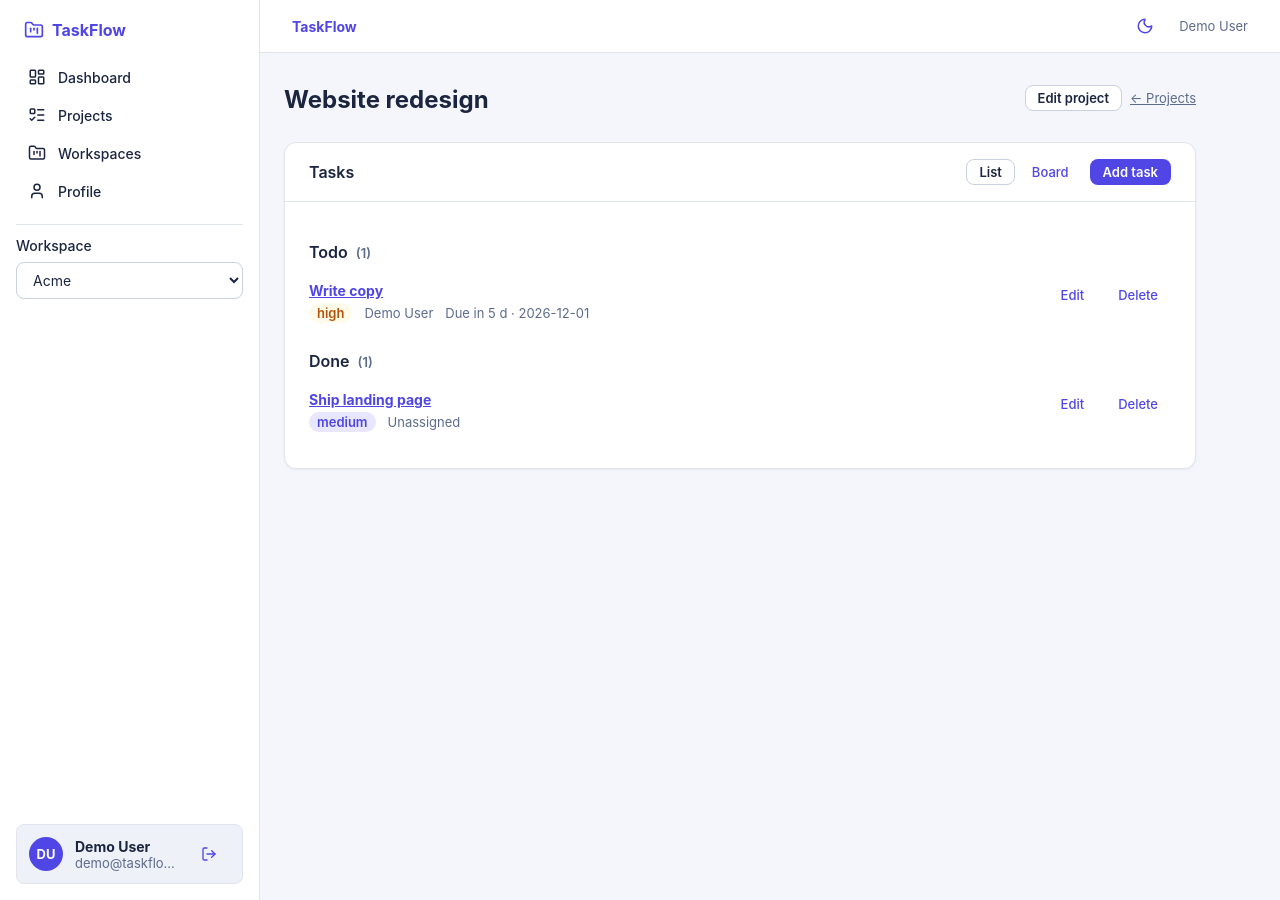
Scenario: action-a11y — "Inline edit actions stay scoped" (@w1) › edit form keeps Save/Cancel names; row labels disappear
Expected: the link "Write copy" is shown, [309,282,383,299]
Step 1. Click the button named "Edit \"Write copy\"" → (1072, 295), box [1048,282,1097,308]
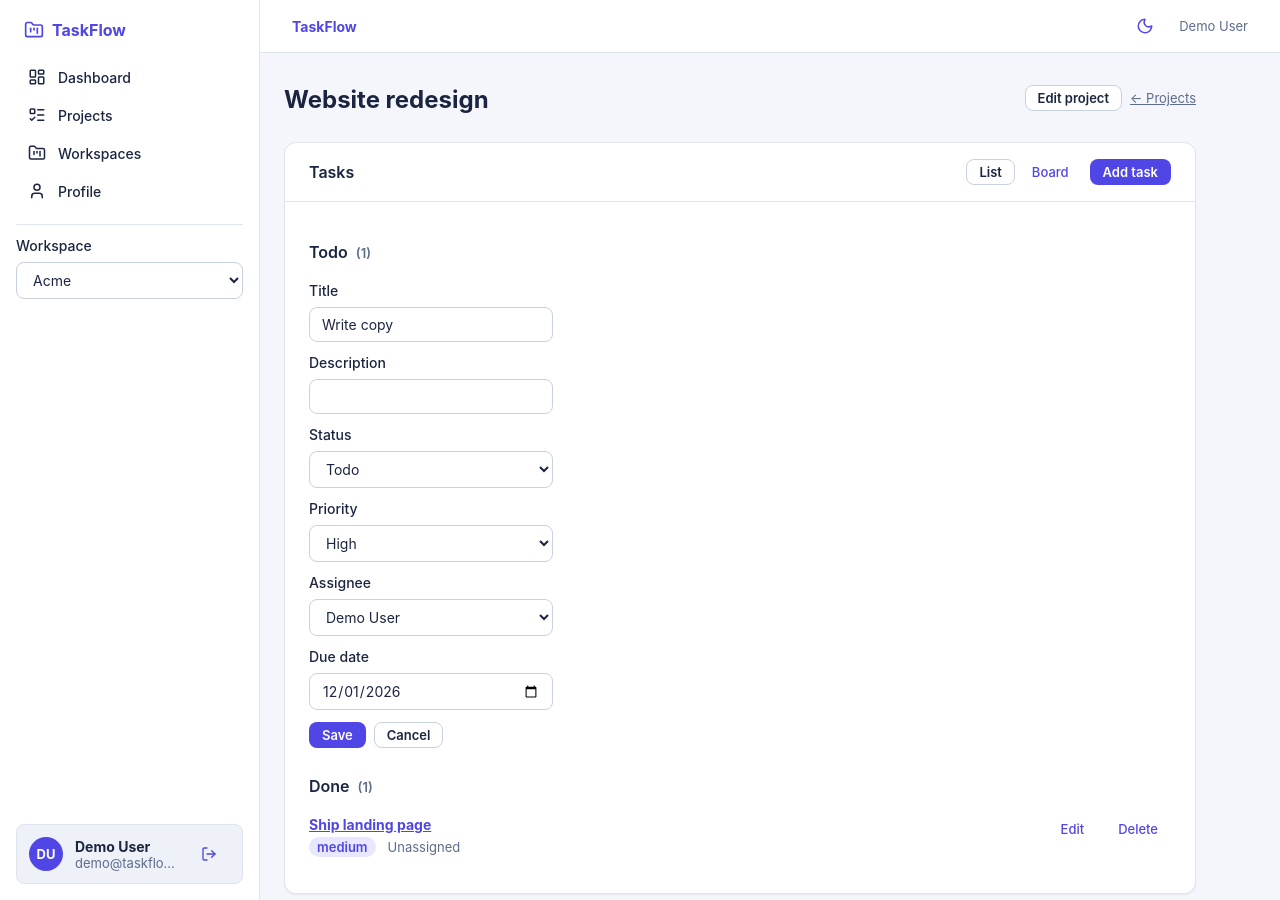
Expected: the button "Save" is shown, [309,722,366,748]
Expected: the button "Cancel" is shown, [374,722,444,748]
